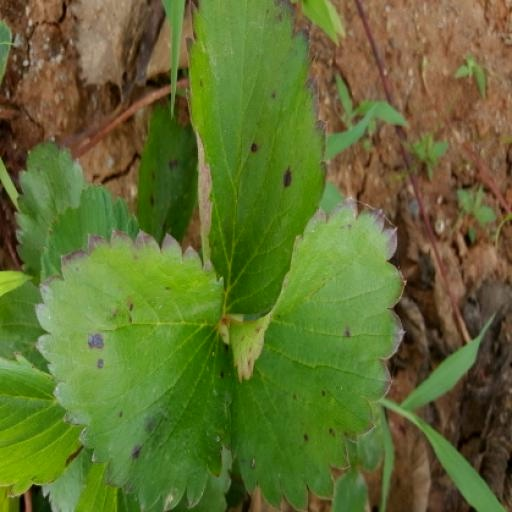Leaf Spot: (105, 0, 287, 312), (281, 0, 479, 285), (182, 191, 327, 511), (421, 235, 499, 371), (314, 266, 375, 404)
